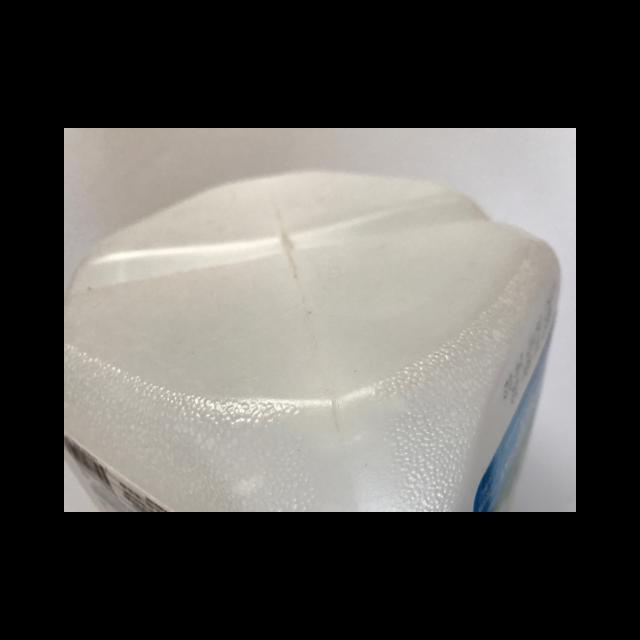plastic: (64, 170, 560, 511)
